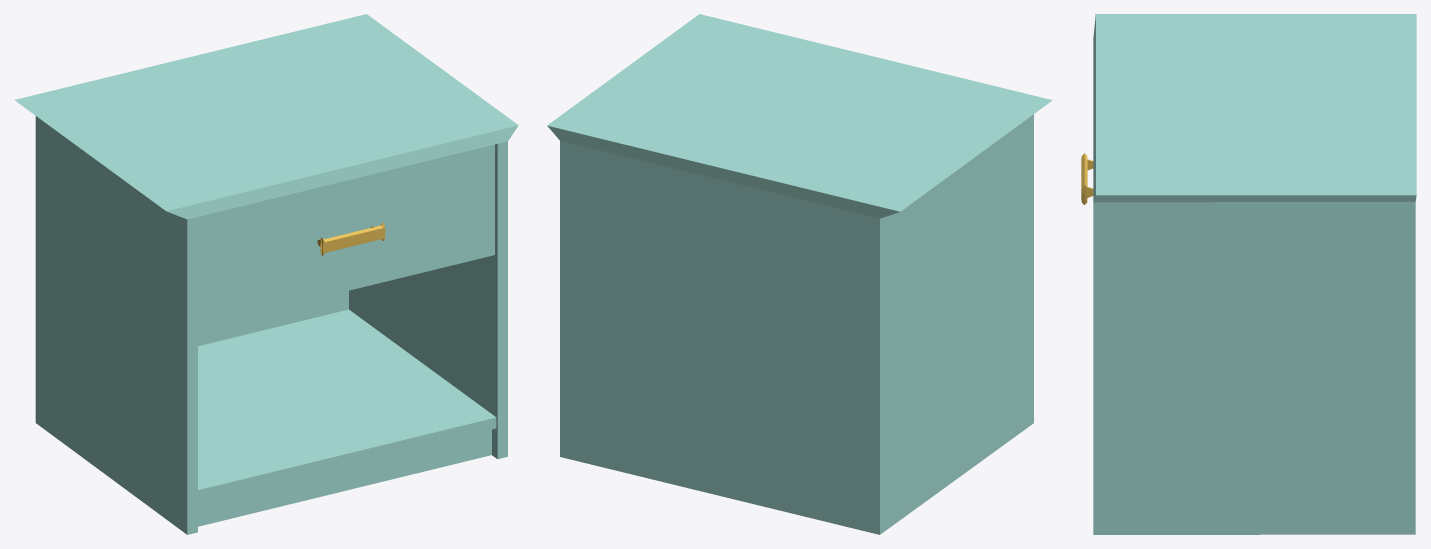
File: night_stand.glb
3 views of the same model, side by side, from view 1: azimuth 30°, elevation 25°; view 2: azimuth 150°, elevation 25°; view 3: azimuth 270°, elevation 25° (orthographic). The views are drawn at different scales.
Visible parts, largest first — view 1: Cube.000, Cube.001, Cube; view 2: Cube.000; view 3: Cube.000, Cube.
Boxes of the visible parts, <box> form: Cube.000: <box>14,14,518,534</box>; Cube.001: <box>198,144,494,327</box>; Cube: <box>317,222,385,255</box>; Cube.000: <box>547,14,1052,534</box>; Cube.000: <box>1093,14,1416,534</box>; Cube: <box>1081,153,1093,204</box>.
Size of the model in its own units: 2.34 by 2.08 by 1.83.
